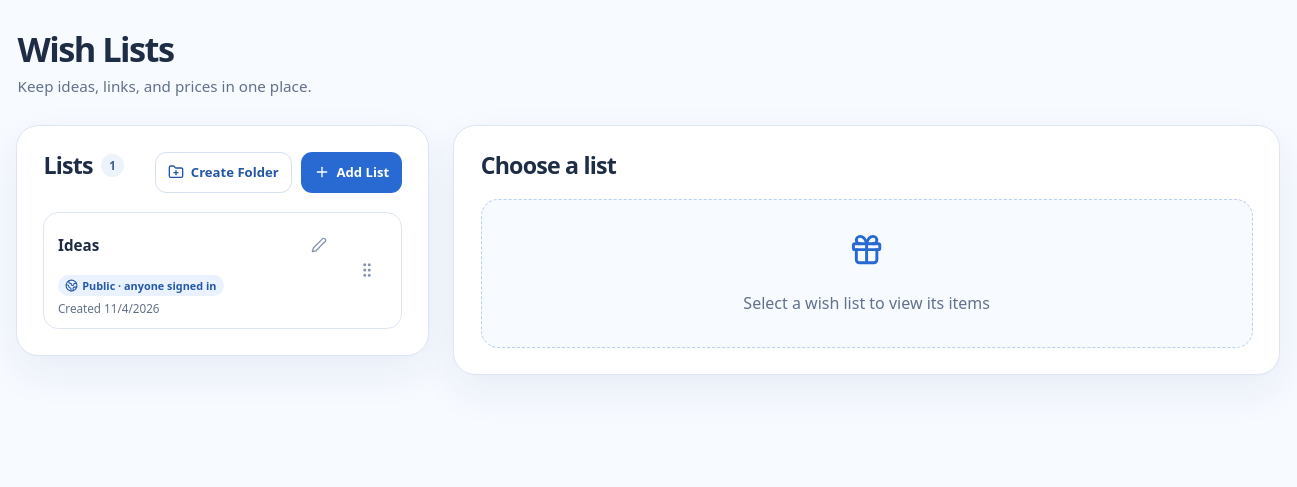
Test: the owner can delete an item from their list
The image size is (1297, 487).
Click the button "Ideas Public · anyone signed in Created 11/4/2026" at (79, 245), box [43,212,402,329]
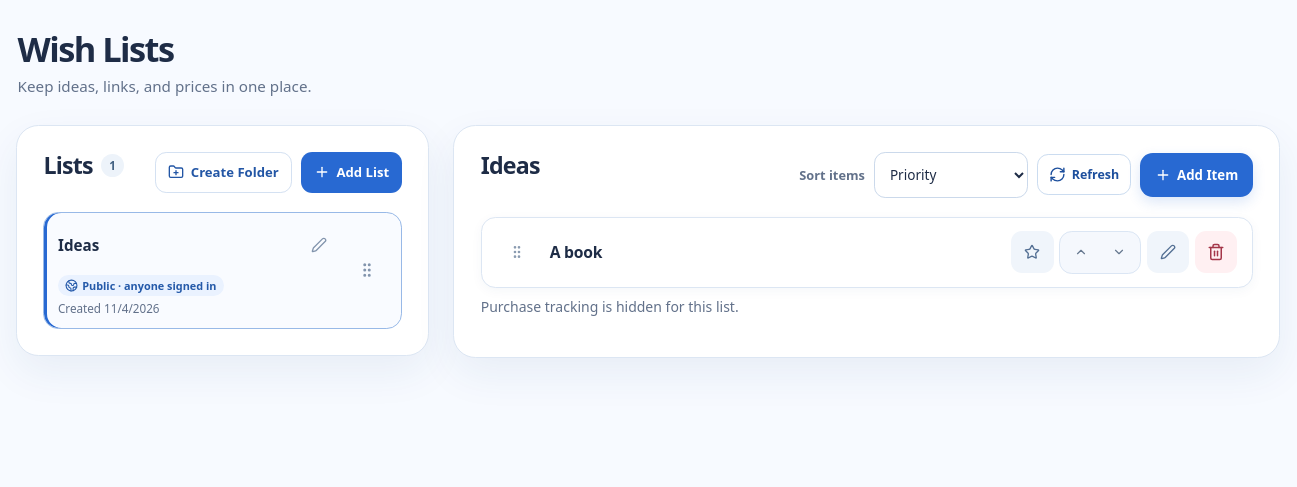
Expected: the heading "A book" is shown, [550,241,602,263]
Click the button named "Delete A book" at (1216, 252), box [1195,231,1237,274]
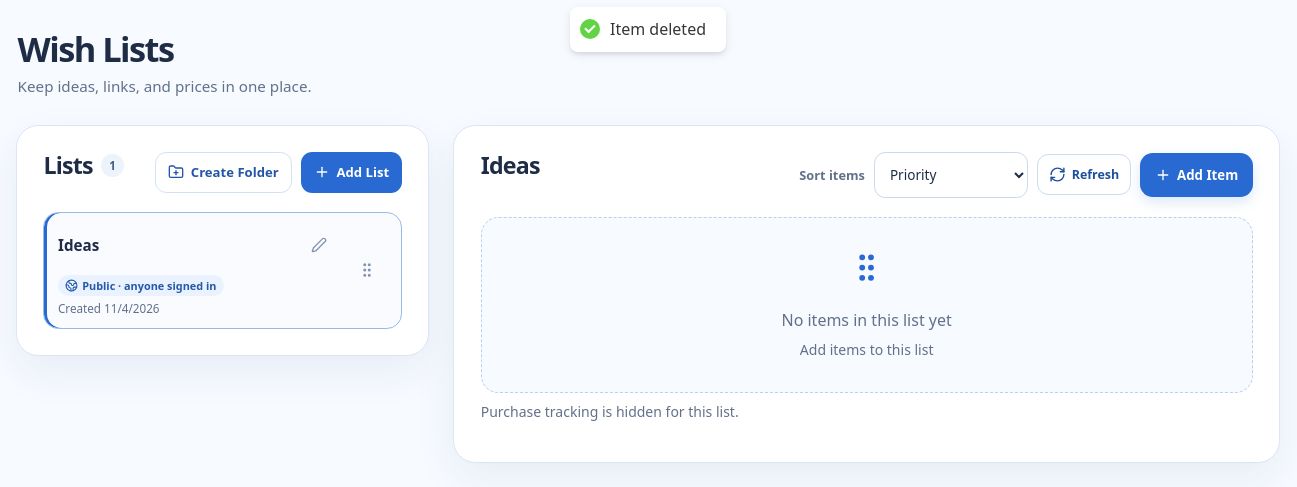
Expected: the heading "A book" is gone
